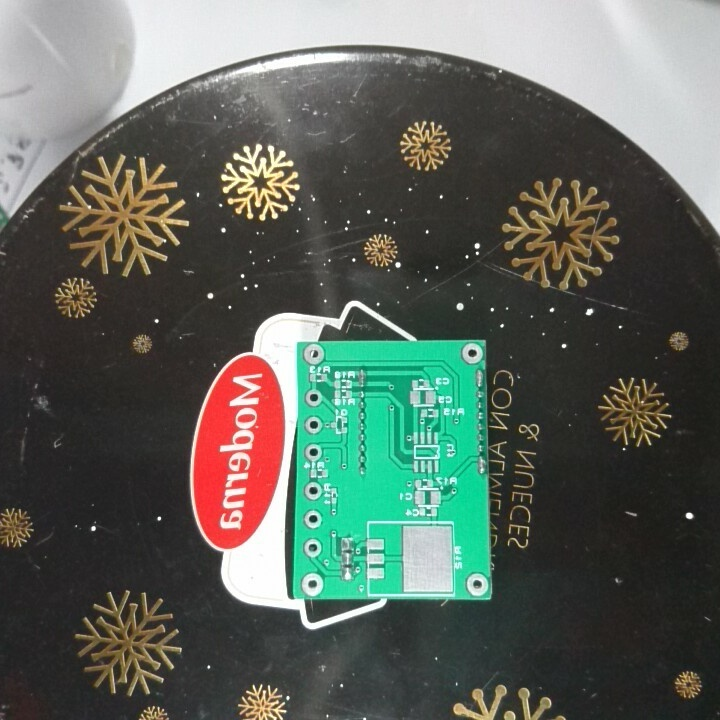F: (462, 569, 488, 598), (299, 571, 325, 597), (459, 340, 484, 366), (302, 342, 325, 366), (301, 538, 324, 561), (300, 509, 324, 531), (302, 441, 323, 463), (303, 386, 323, 409), (302, 480, 323, 501), (303, 415, 322, 434)
P: (356, 365, 369, 386), (475, 455, 486, 477), (474, 366, 484, 389)
